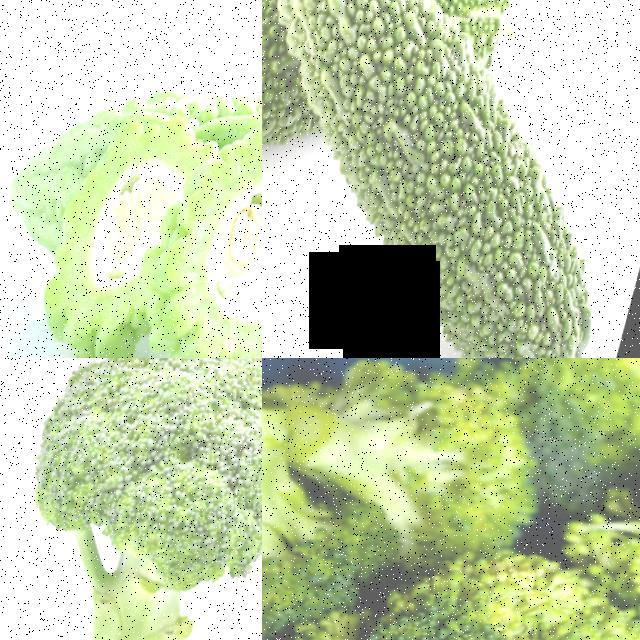-: (311, 553, 640, 640)
bitter gourd: (275, 61, 640, 358), (32, 126, 185, 358), (154, 146, 262, 358)
broccoli: (0, 358, 262, 629), (305, 363, 562, 538), (262, 434, 376, 640), (493, 358, 640, 471)
